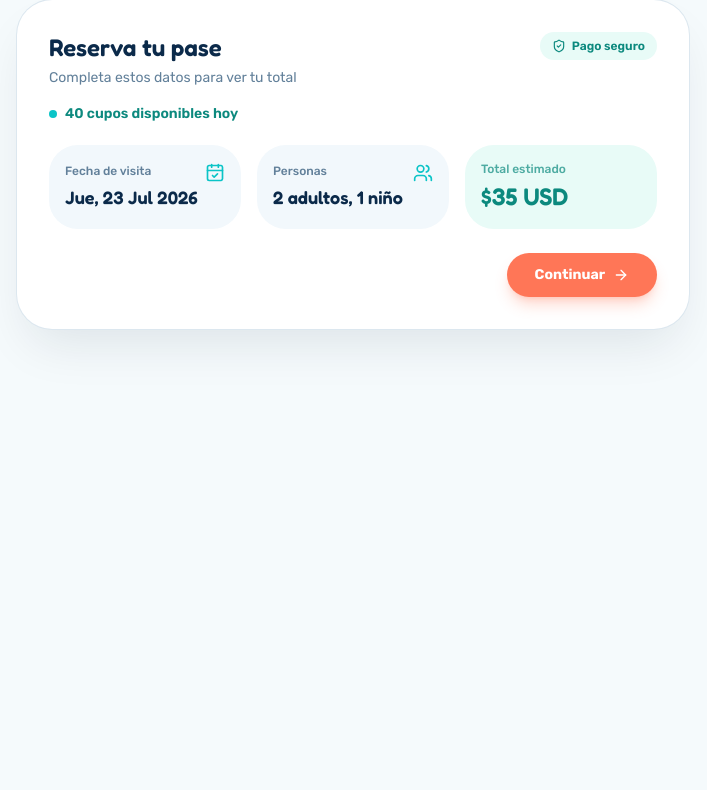
Test: BookingCard › shows the estimated VES total on the payment step (rate fetched on transition)
The width and height of the screenshot is (707, 790).
Click the button "Continuar" at (582, 275), box [507,253,657,297]
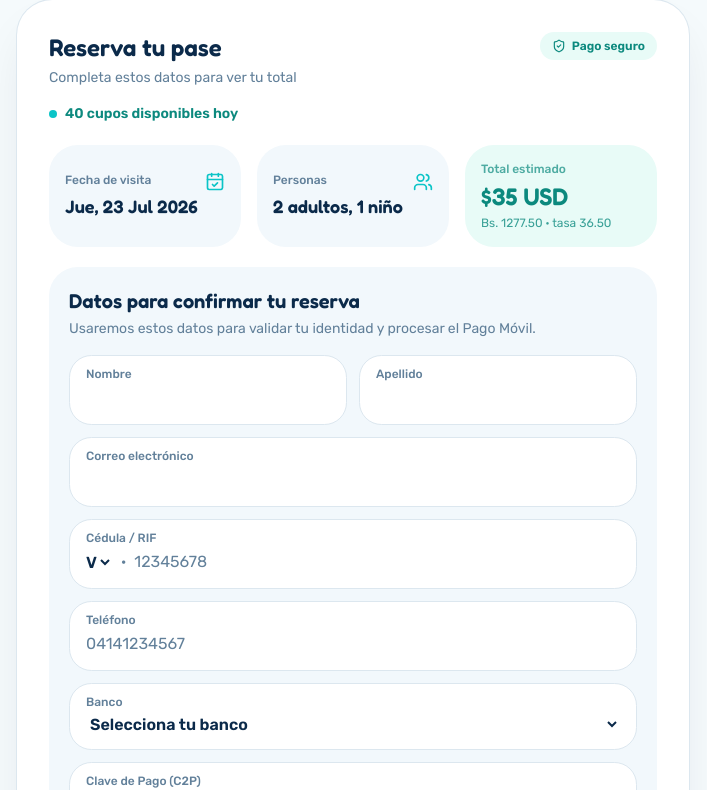
Expected: the text "Bs. 1277.50 · tasa 36.50" is shown, [481,216,611,230]
